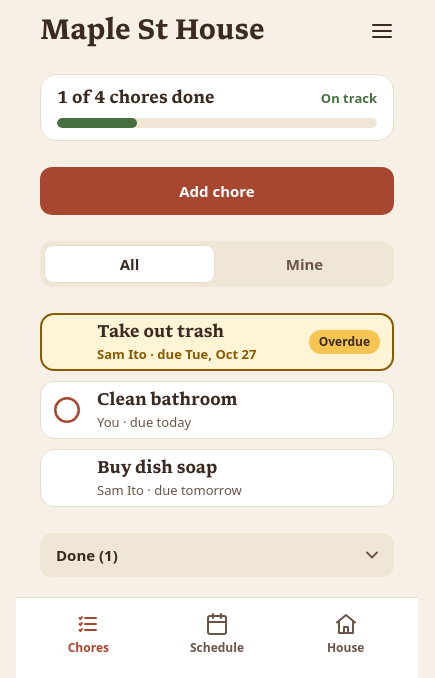
Test case: Home chore list › puts the checkbox back and says so when saving fails
What coordinates should you click on to do the following:
click the checkbox named "Mark Clean bathroom done"
I would click on:
 (67, 410)
Its box is [45,388,89,432].
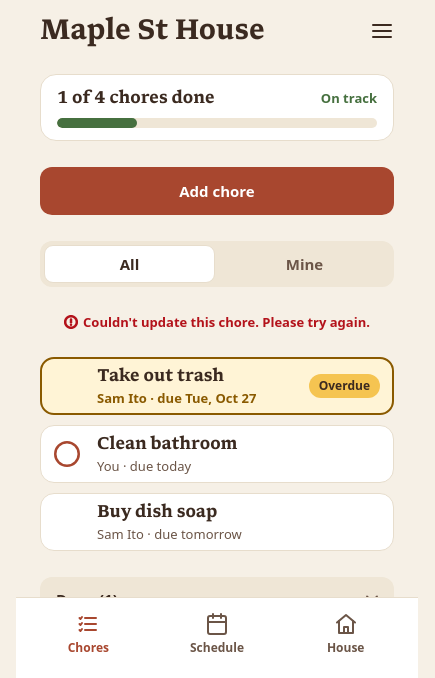
Expected: the checkbox named "Mark Clean bathroom done" is not checked, [45,432,89,476]
Now the message reads "Couldn't update this chore. Please try again.", box [83,313,370,331]
